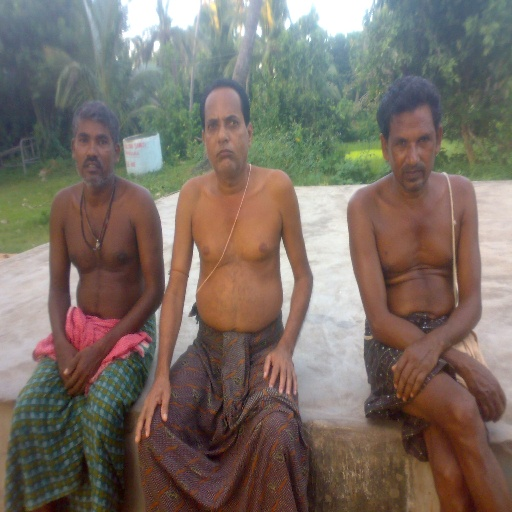hand: (390, 337, 438, 404), (132, 364, 166, 447), (465, 361, 507, 424), (63, 345, 103, 398), (263, 346, 298, 398), (55, 342, 79, 388)
